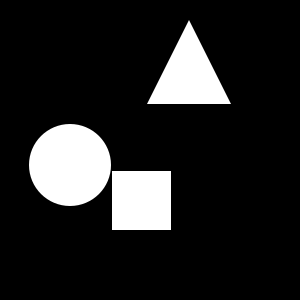circle: (112, 171, 171, 230)
rectangle: (29, 124, 111, 206)
triangle: (147, 20, 231, 104)
